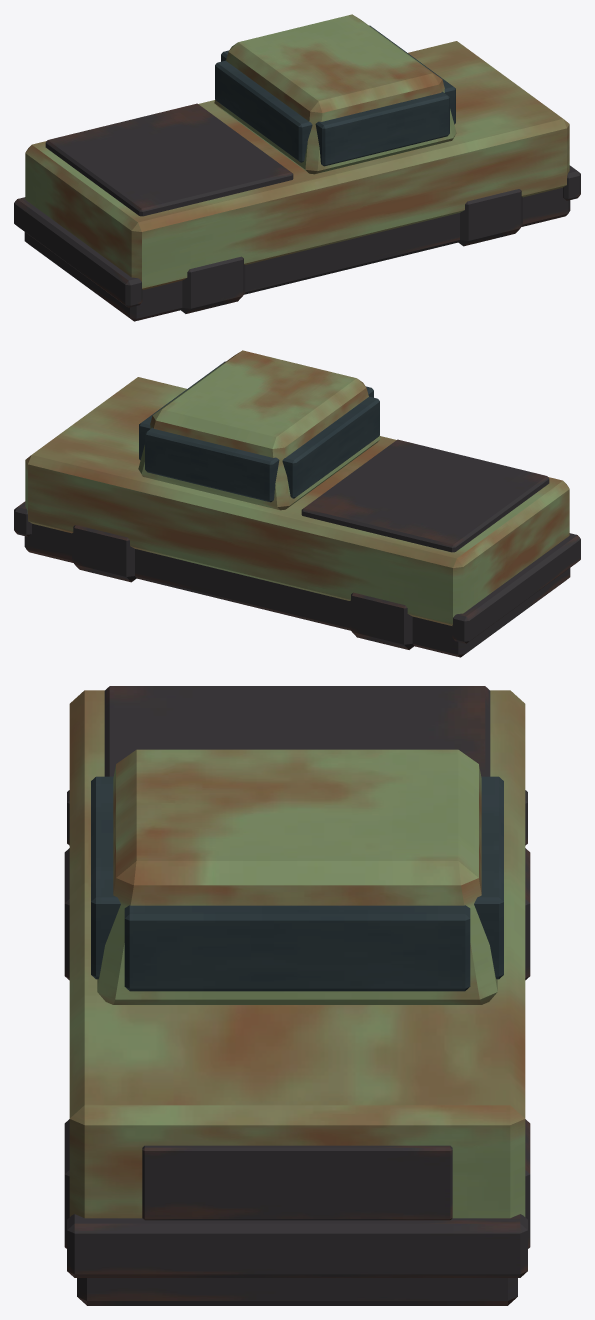
File: car-pickup.glb
3 renders of one model, top to bottom at view 1: azimuth 30°, elevation 25°; view 2: azimuth 150°, elevation 25°; view 3: azimuth 270°, elevation 25°, orthographic. The views are drawn at different scales.
Parts seen in each view (by area): view 1: car_pickup; view 2: car_pickup; view 3: car_pickup.
Part boxes in pixels (x1,y1,x2,y2): car_pickup: (14, 14, 580, 321); car_pickup: (14, 350, 580, 657); car_pickup: (64, 686, 530, 1305).
Size of the model in its own units: 4.2 by 1.48 by 1.86.
Materials: 1 (1 with a texture image).
